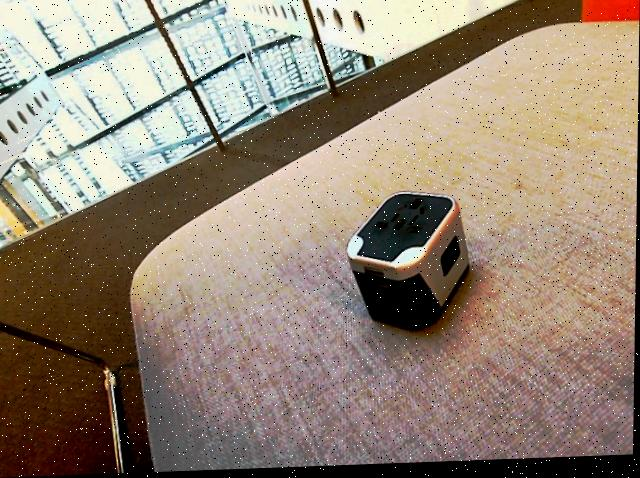adapter: (346, 192, 471, 336)
